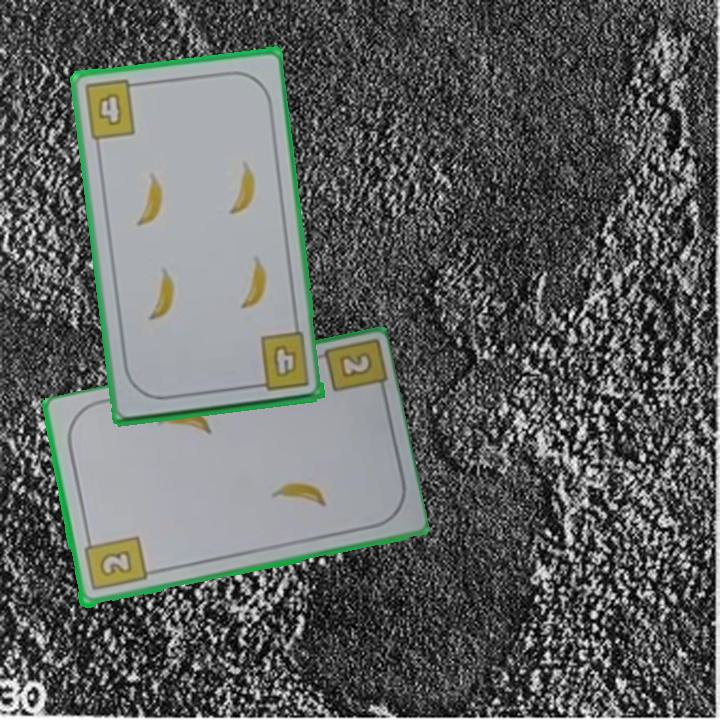2b: (80, 533, 149, 594), (335, 348, 375, 382)
4b: (80, 77, 144, 142), (249, 329, 312, 394)
